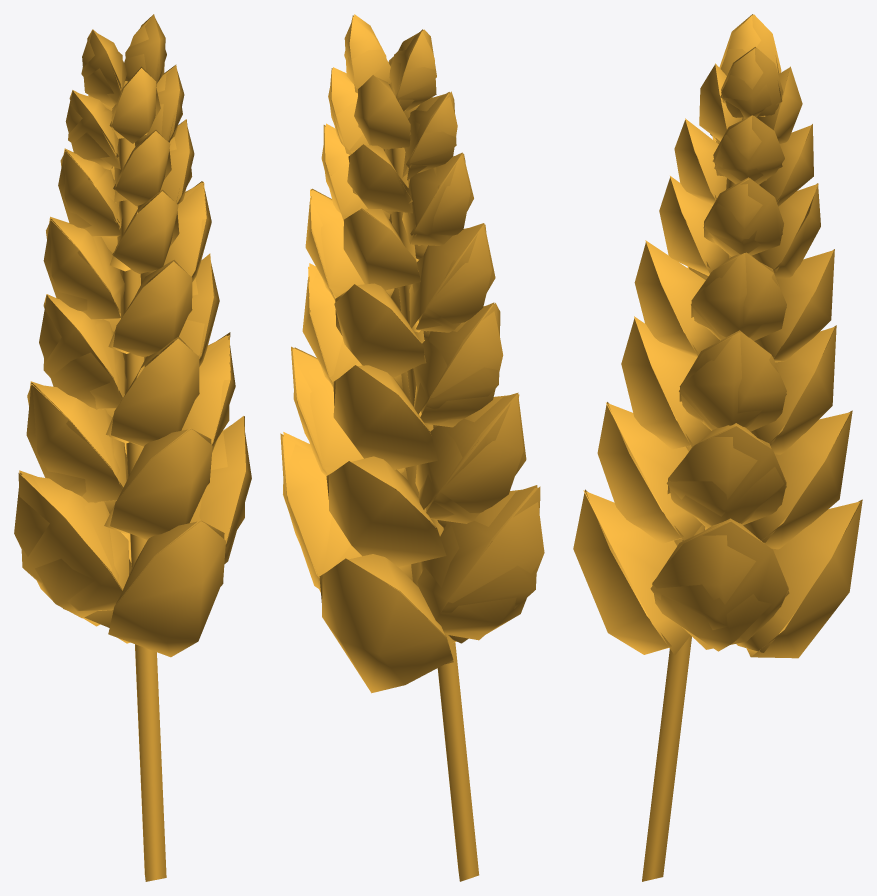
Rendered from Wheat.fbx.
3 views of the same model, side by side, from view 1: azimuth 30°, elevation 25°; view 2: azimuth 150°, elevation 25°; view 3: azimuth 270°, elevation 25° (orthographic). The views are drawn at different scales.
Parts seen in each view (by area): view 1: grid wheat.001|Cylinder.001|Dupli|89; view 2: grid wheat.001|Cylinder.001|Dupli|89; view 3: grid wheat.001|Cylinder.001|Dupli|89.
Boxes of the visible parts, x1,y1,x2,y2 form: grid wheat.001|Cylinder.001|Dupli|89: (14, 14, 251, 881); grid wheat.001|Cylinder.001|Dupli|89: (280, 14, 544, 881); grid wheat.001|Cylinder.001|Dupli|89: (573, 14, 862, 881).
Size of the model in its own units: 19.2 by 62.62 by 19.15.
